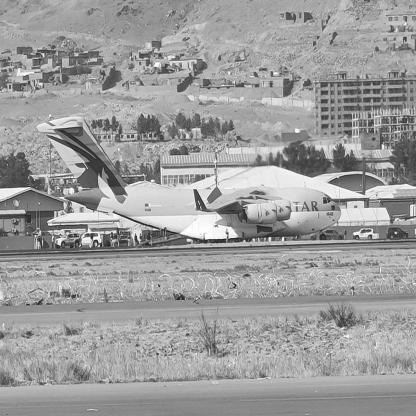C17: (37, 117, 343, 246)
